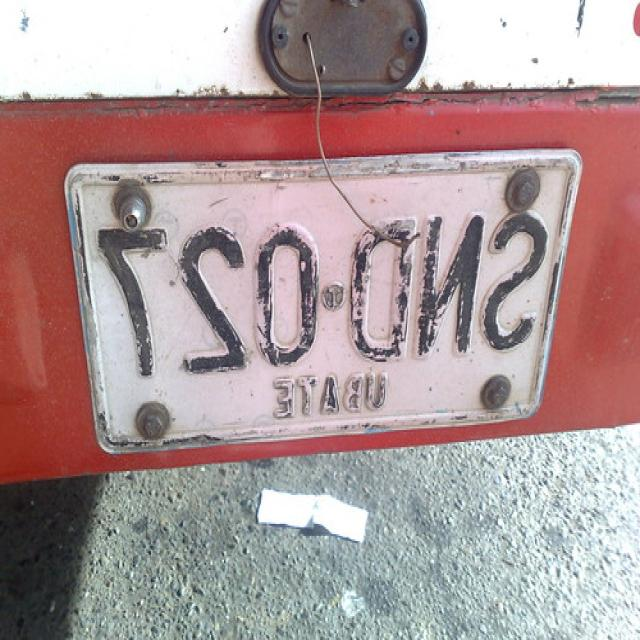placas: (82, 203, 564, 382)
